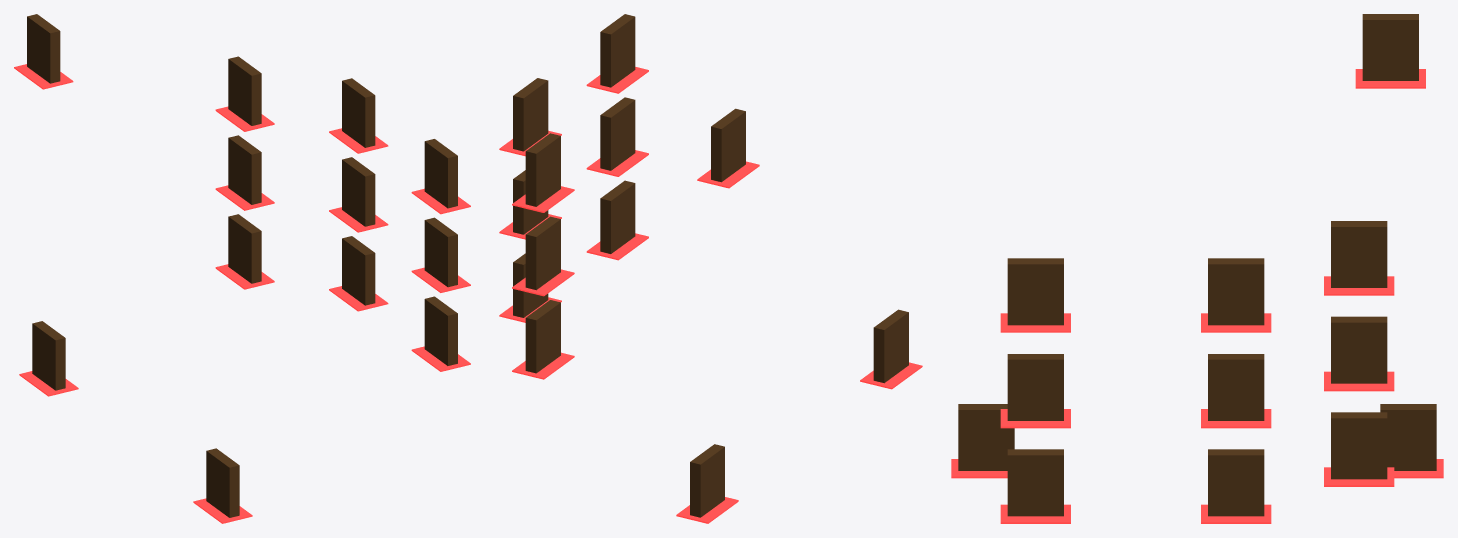
File: Bookshelf_Fall.fbx
3 views of the same model, side by side, from view 1: azimuth 30°, elevation 25°; view 2: azimuth 150°, elevation 25°; view 3: azimuth 270°, elevation 25° (orthographic). The views are drawn at different scales.
Parts seen in each view (by area): view 1: F1_Book_SecL_Shelf, F1_Book_SecU_Shelf, F2_Book_W1_Shelf, F2_Book_W5_Shelf, F3_Book_W10_Shelf, F3_Book_W1_Shelf, F4_Book_W5_Shelf, F2_Book_W10_Shelf, F3_Book_W5_Shelf, F4_Book_W10_Shelf, F4_Book_W1_Shelf, F5_Book_Exec_Shelf (+3 smaller); view 2: F4_Book_W1_Shelf, F3_Book_W1_Shelf, F4_Book_W5_Shelf, F2_Book_W10_Shelf, F3_Book_W10_Shelf, F1_Book_SecL_Shelf, F2_Book_W1_Shelf, F4_Book_W10_Shelf, F1_Book_SecU_Shelf, F5_Book_Exec_Shelf, F3_Book_W5_Shelf, F2_Book_W5_Shelf (+9 smaller); view 3: F2_Book_W10_Shelf, F2_Book_W1_Shelf, F2_Book_W5_Shelf, F3_Book_W1_Shelf, F4_Book_W10_Shelf, F4_Book_W5_Shelf, F3_Book_W10_Shelf, F3_Book_W5_Shelf, F4_Book_W1_Shelf, F5_Book_Exec_Shelf, F1_Book_SecU_Shelf, F1_Book_SecL_Shelf (+10 smaller).
Part boxes in pixels (box(x1,y1,x2,y2)): F1_Book_SecL_Shelf: box(206, 448, 239, 517); F1_Book_SecU_Shelf: box(32, 321, 65, 390); F2_Book_W1_Shelf: box(228, 214, 261, 283); F2_Book_W5_Shelf: box(342, 236, 375, 305); F3_Book_W10_Shelf: box(424, 217, 457, 287); F3_Book_W1_Shelf: box(228, 135, 261, 204); F4_Book_W5_Shelf: box(342, 78, 375, 147); F2_Book_W10_Shelf: box(424, 296, 457, 365); F3_Book_W5_Shelf: box(342, 157, 375, 226); F4_Book_W10_Shelf: box(424, 139, 457, 208); F4_Book_W1_Shelf: box(228, 56, 261, 125); F5_Book_Exec_Shelf: box(27, 14, 60, 83); F4_Book_W1_Shelf: box(525, 133, 560, 206); F3_Book_W1_Shelf: box(525, 216, 560, 290); F4_Book_W5_Shelf: box(513, 78, 548, 151); F2_Book_W10_Shelf: box(600, 180, 635, 253); F3_Book_W10_Shelf: box(600, 97, 635, 170); F1_Book_SecL_Shelf: box(873, 309, 908, 383); F2_Book_W1_Shelf: box(525, 300, 560, 373); F4_Book_W10_Shelf: box(600, 14, 635, 87); F1_Book_SecU_Shelf: box(690, 444, 724, 517); F5_Book_Exec_Shelf: box(711, 108, 745, 182); F3_Book_W5_Shelf: box(513, 170, 548, 234); F2_Book_W5_Shelf: box(513, 253, 548, 317); F2_Book_W10_Shelf: box(1007, 449, 1063, 516); F2_Book_W1_Shelf: box(1331, 412, 1387, 479); F2_Book_W5_Shelf: box(1208, 449, 1264, 516); F3_Book_W1_Shelf: box(1331, 316, 1387, 383); F4_Book_W10_Shelf: box(1007, 258, 1063, 325); F4_Book_W5_Shelf: box(1208, 258, 1264, 325); F3_Book_W10_Shelf: box(1007, 354, 1063, 420); F3_Book_W5_Shelf: box(1208, 354, 1264, 420); F4_Book_W1_Shelf: box(1331, 221, 1387, 287); F5_Book_Exec_Shelf: box(1362, 14, 1418, 80); F1_Book_SecU_Shelf: box(1380, 404, 1436, 470); F1_Book_SecL_Shelf: box(958, 404, 1014, 470).
Size of the model in its own units: 11.2 by 14 by 14.
